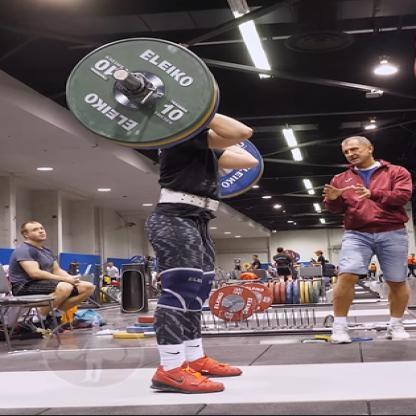Barbell: (109, 66, 138, 85)
